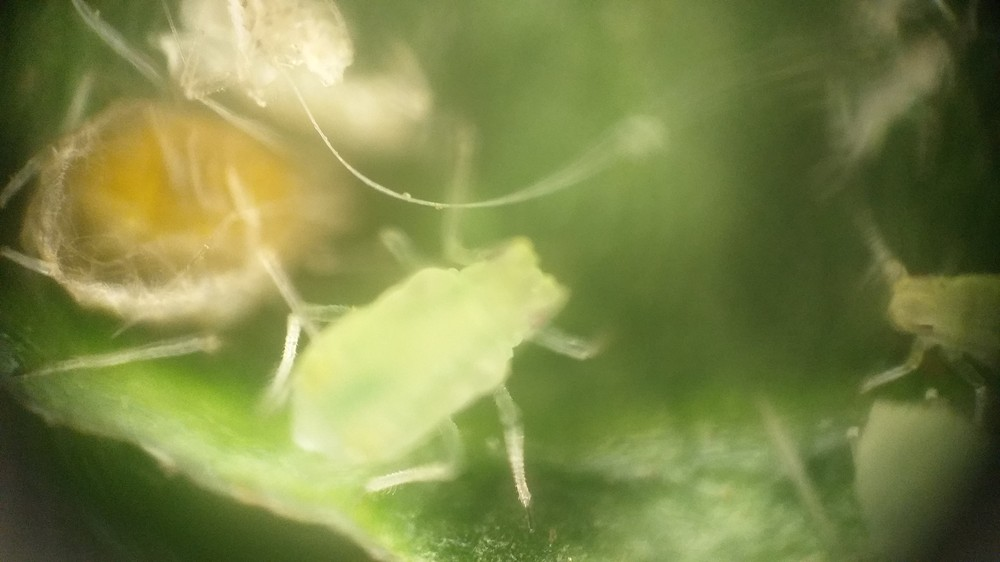Pulgon: (267, 161, 641, 544), (9, 71, 398, 385)
